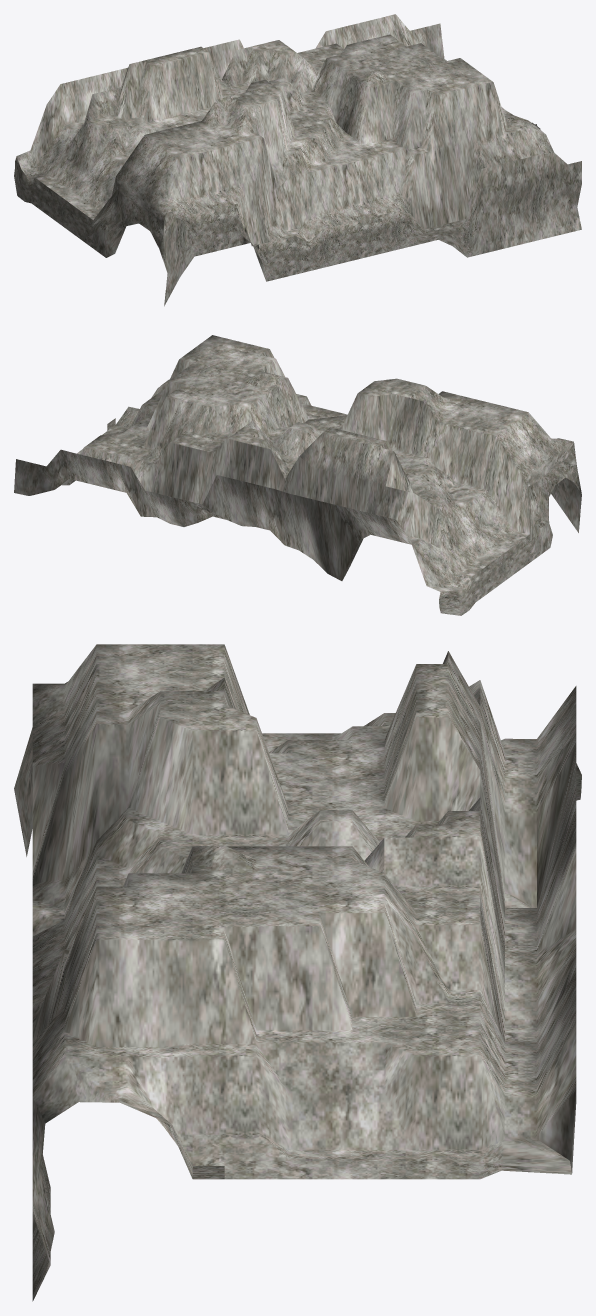
File: DWARF_PALACE_FORGE_CAVEA.fbx
3 views of the same model, one above another, from view 1: azimuth 30°, elevation 25°; view 2: azimuth 150°, elevation 25°; view 3: azimuth 270°, elevation 25° (orthographic). The views are drawn at different scales.
Visible parts, largest first — view 1: DWARF_PALACE_FORGE_CAVEA; view 2: DWARF_PALACE_FORGE_CAVEA; view 3: DWARF_PALACE_FORGE_CAVEA.
Boxes of the visible parts, left/top/right/bottom form: DWARF_PALACE_FORGE_CAVEA: left=14, top=14, right=581, bottom=306; DWARF_PALACE_FORGE_CAVEA: left=14, top=335, right=581, bottom=615; DWARF_PALACE_FORGE_CAVEA: left=14, top=644, right=581, bottom=1301.
Bounding box in the file's own units: 726796 × 270858 × 425212.
Materials: 1 (1 with a texture image).
